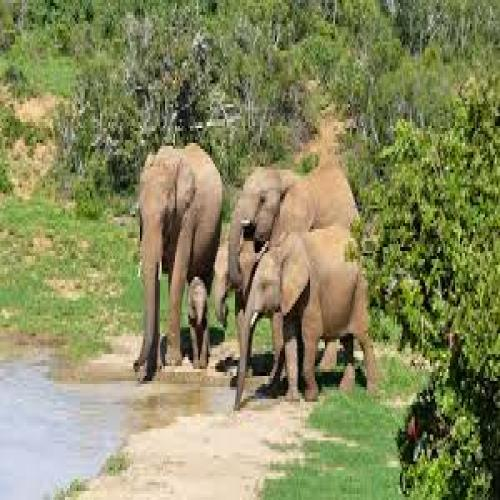asian_elephant-endangered: (233, 227, 376, 412), (132, 144, 223, 371), (226, 165, 360, 282), (213, 242, 256, 354), (187, 272, 209, 368)
